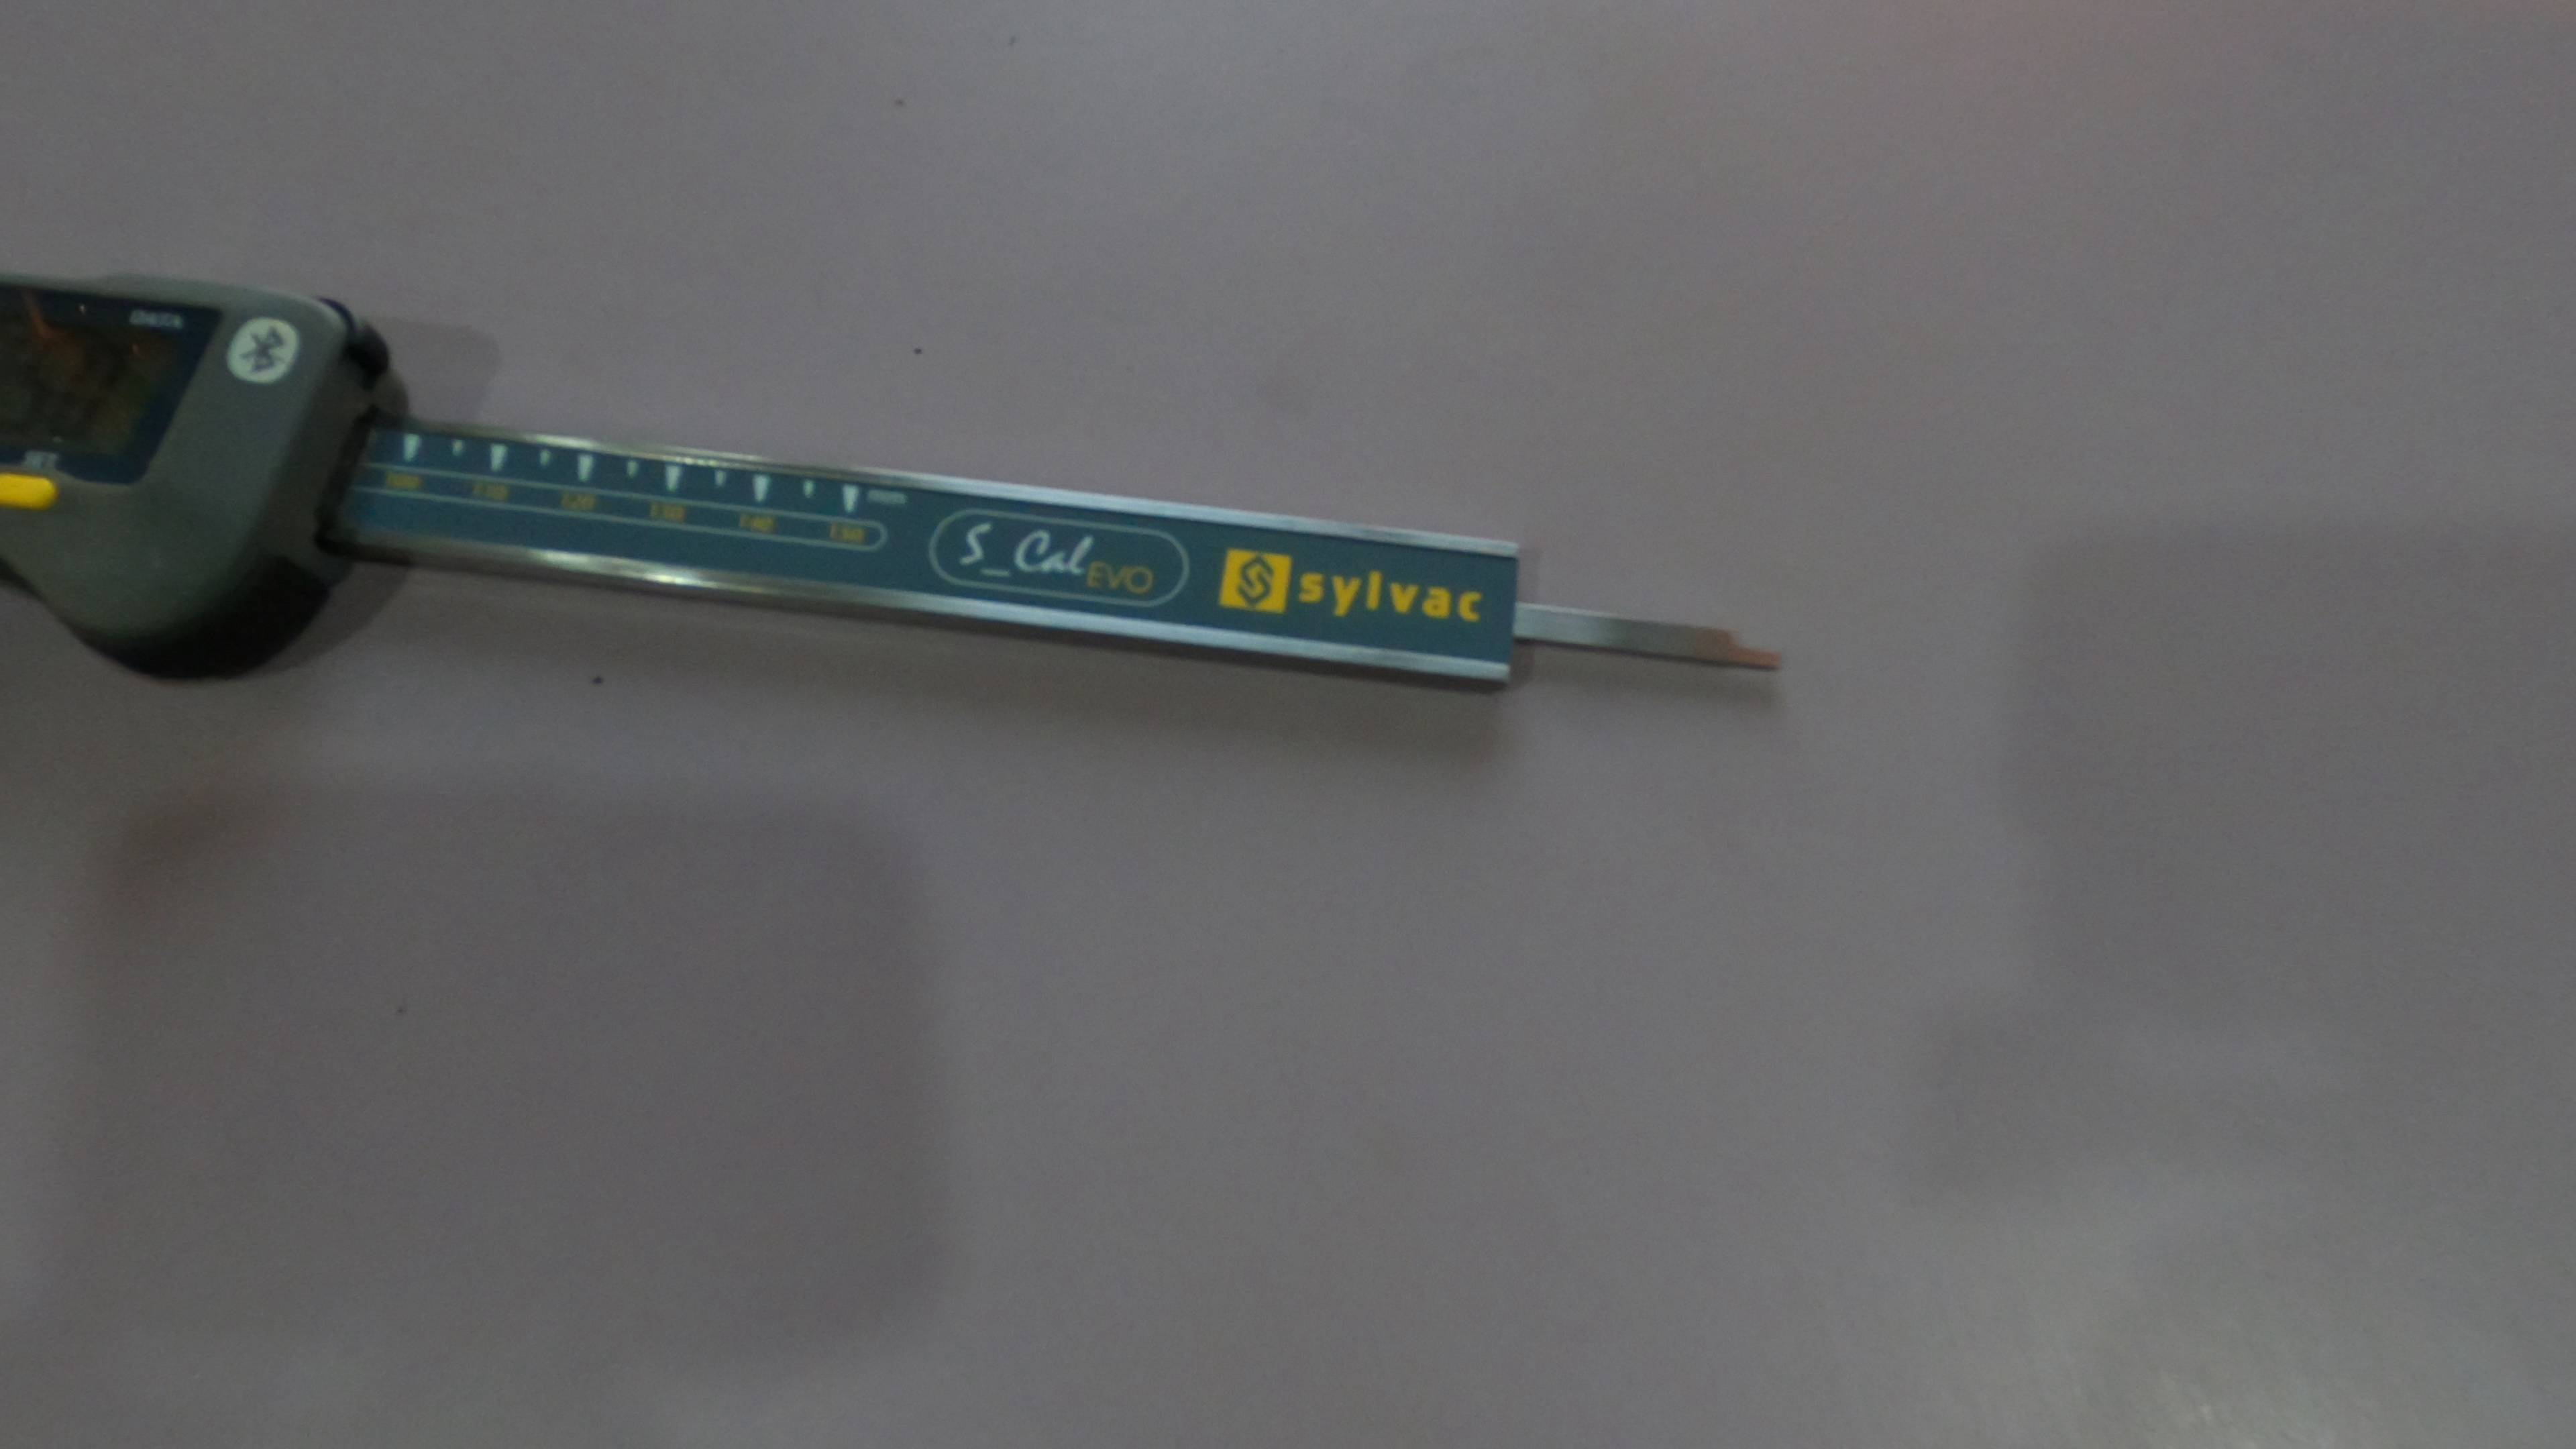vernier_caliper: (7, 241, 1821, 713)
